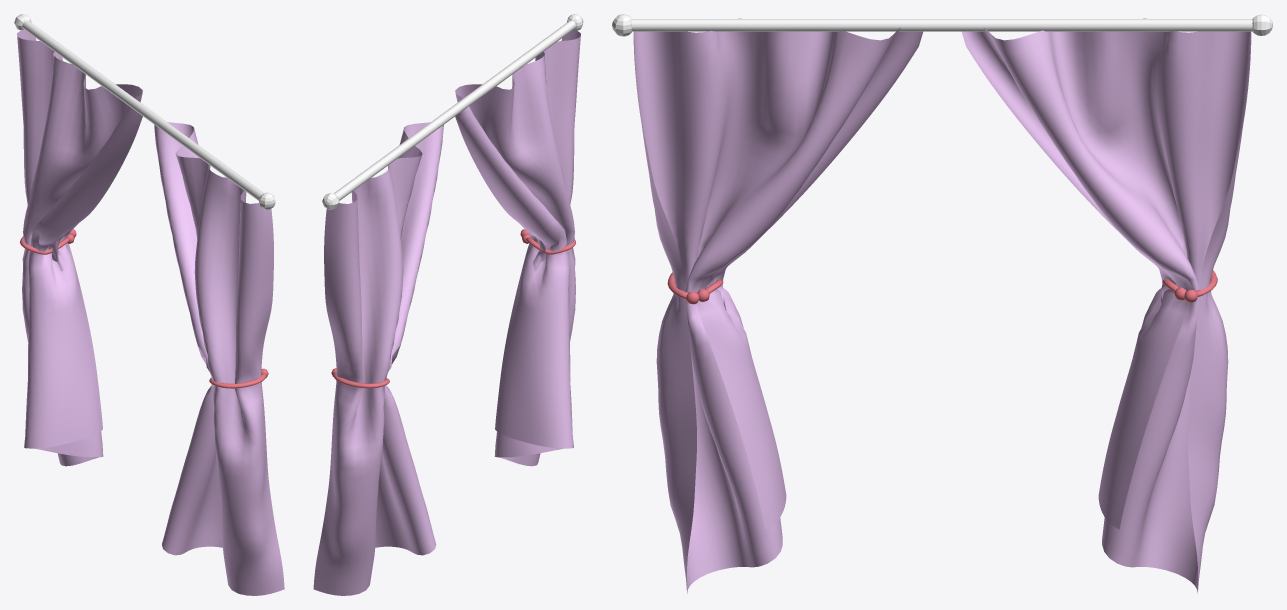
Rendered from Curtain_pink.fbx.
3 views of the same model, side by side, from view 1: azimuth 30°, elevation 25°; view 2: azimuth 150°, elevation 25°; view 3: azimuth 270°, elevation 25° (orthographic). The views are drawn at different scales.
Visible parts, largest first — view 1: 실린더; view 2: 실린더; view 3: 실린더.
Part boxes in pixels (x1,y1,x2,y2): 실린더: [14, 14, 284, 595]; 실린더: [313, 14, 583, 595]; 실린더: [612, 14, 1272, 593].
Size of the model in its own units: 3.14 by 13.78 by 14.82.
